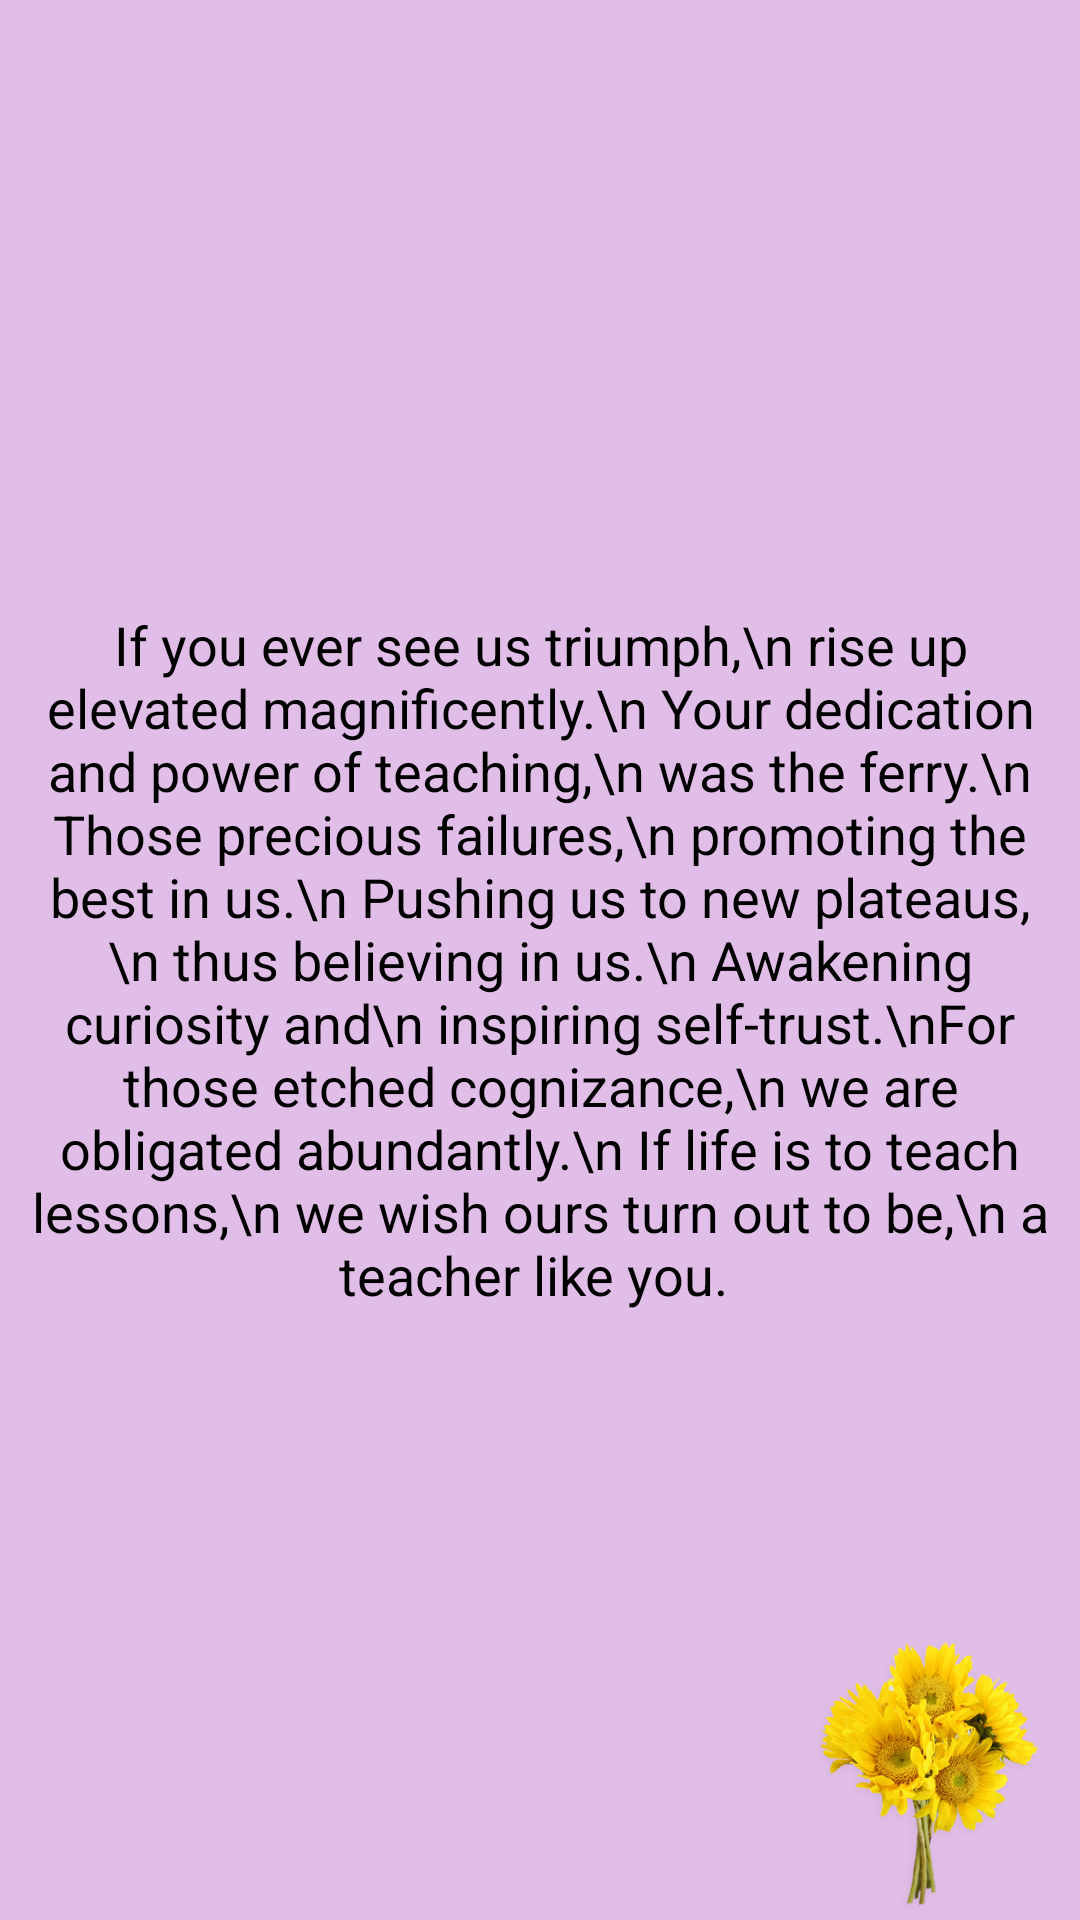

Where to tap for icons on this 1080 x 1920 app screen, as (x,y):
sunfl: (929,1773)
